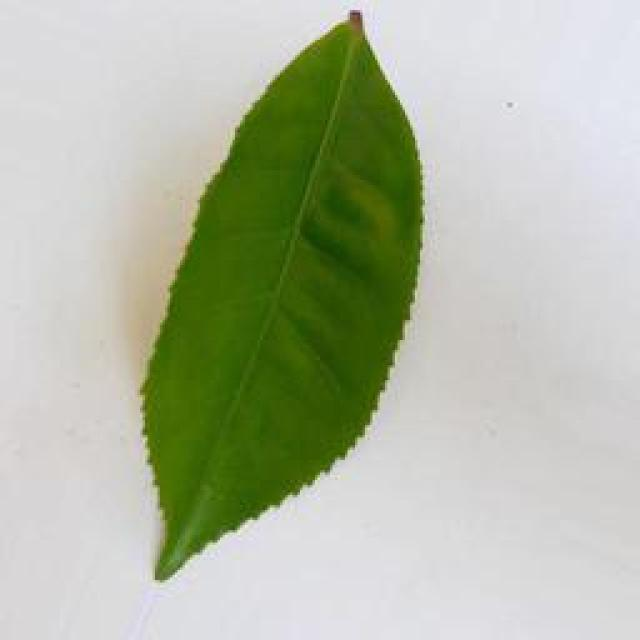Healthy: (137, 8, 430, 584)
